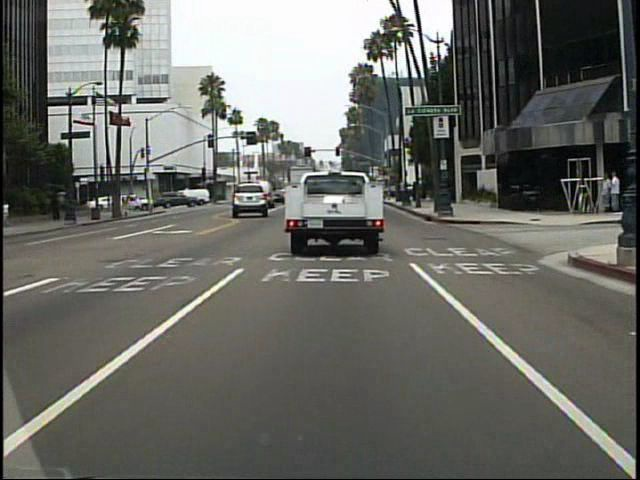person: (599, 170, 612, 213), (610, 168, 621, 216), (134, 193, 144, 213)
